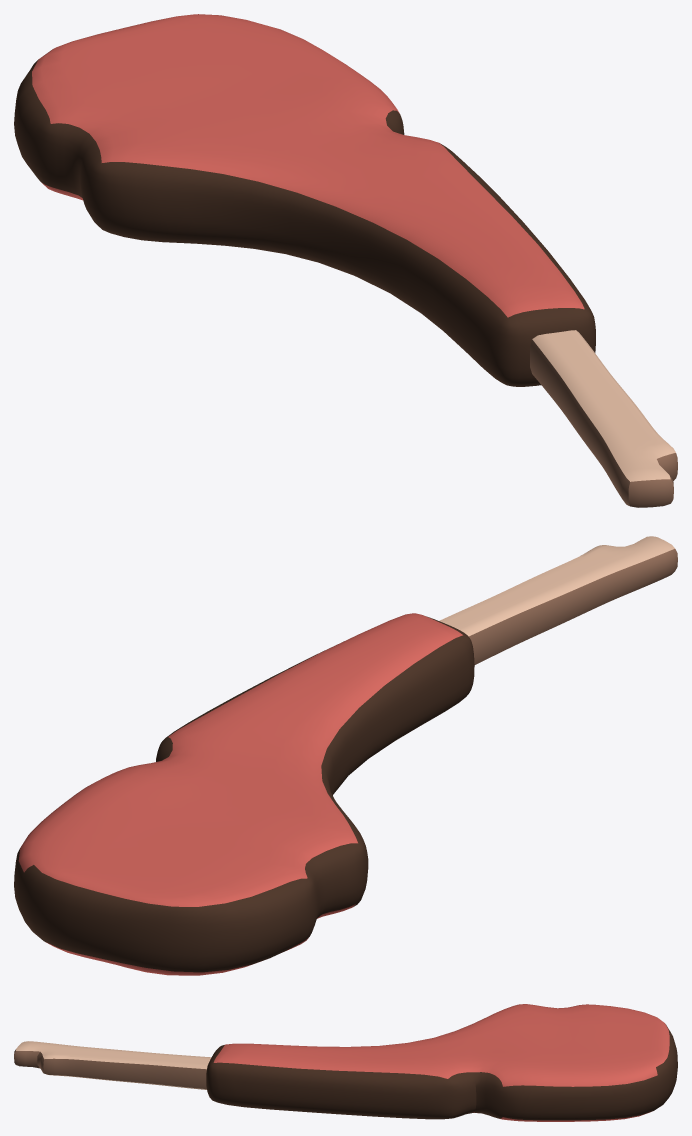
The model's file is sheep_steak.fbx.
3 views of the same model, one above another, from view 1: azimuth 30°, elevation 25°; view 2: azimuth 150°, elevation 25°; view 3: azimuth 270°, elevation 25° (orthographic). The views are drawn at different scales.
Visible parts, largest first — view 1: steak.001, steak_bone; view 2: steak.001, steak_bone; view 3: steak.001, steak_bone.
Part boxes in pixels (left/top/right/bottom): steak.001: left=14, top=14, right=595, bottom=386; steak_bone: left=530, top=330, right=677, bottom=507; steak.001: left=14, top=613, right=474, bottom=975; steak_bone: left=439, top=536, right=677, bottom=664; steak.001: left=206, top=1004, right=677, bottom=1121; steak_bone: left=14, top=1041, right=211, bottom=1089.
Bounding box in the file's own units: 0.0872 × 0.2883 × 0.0252.
